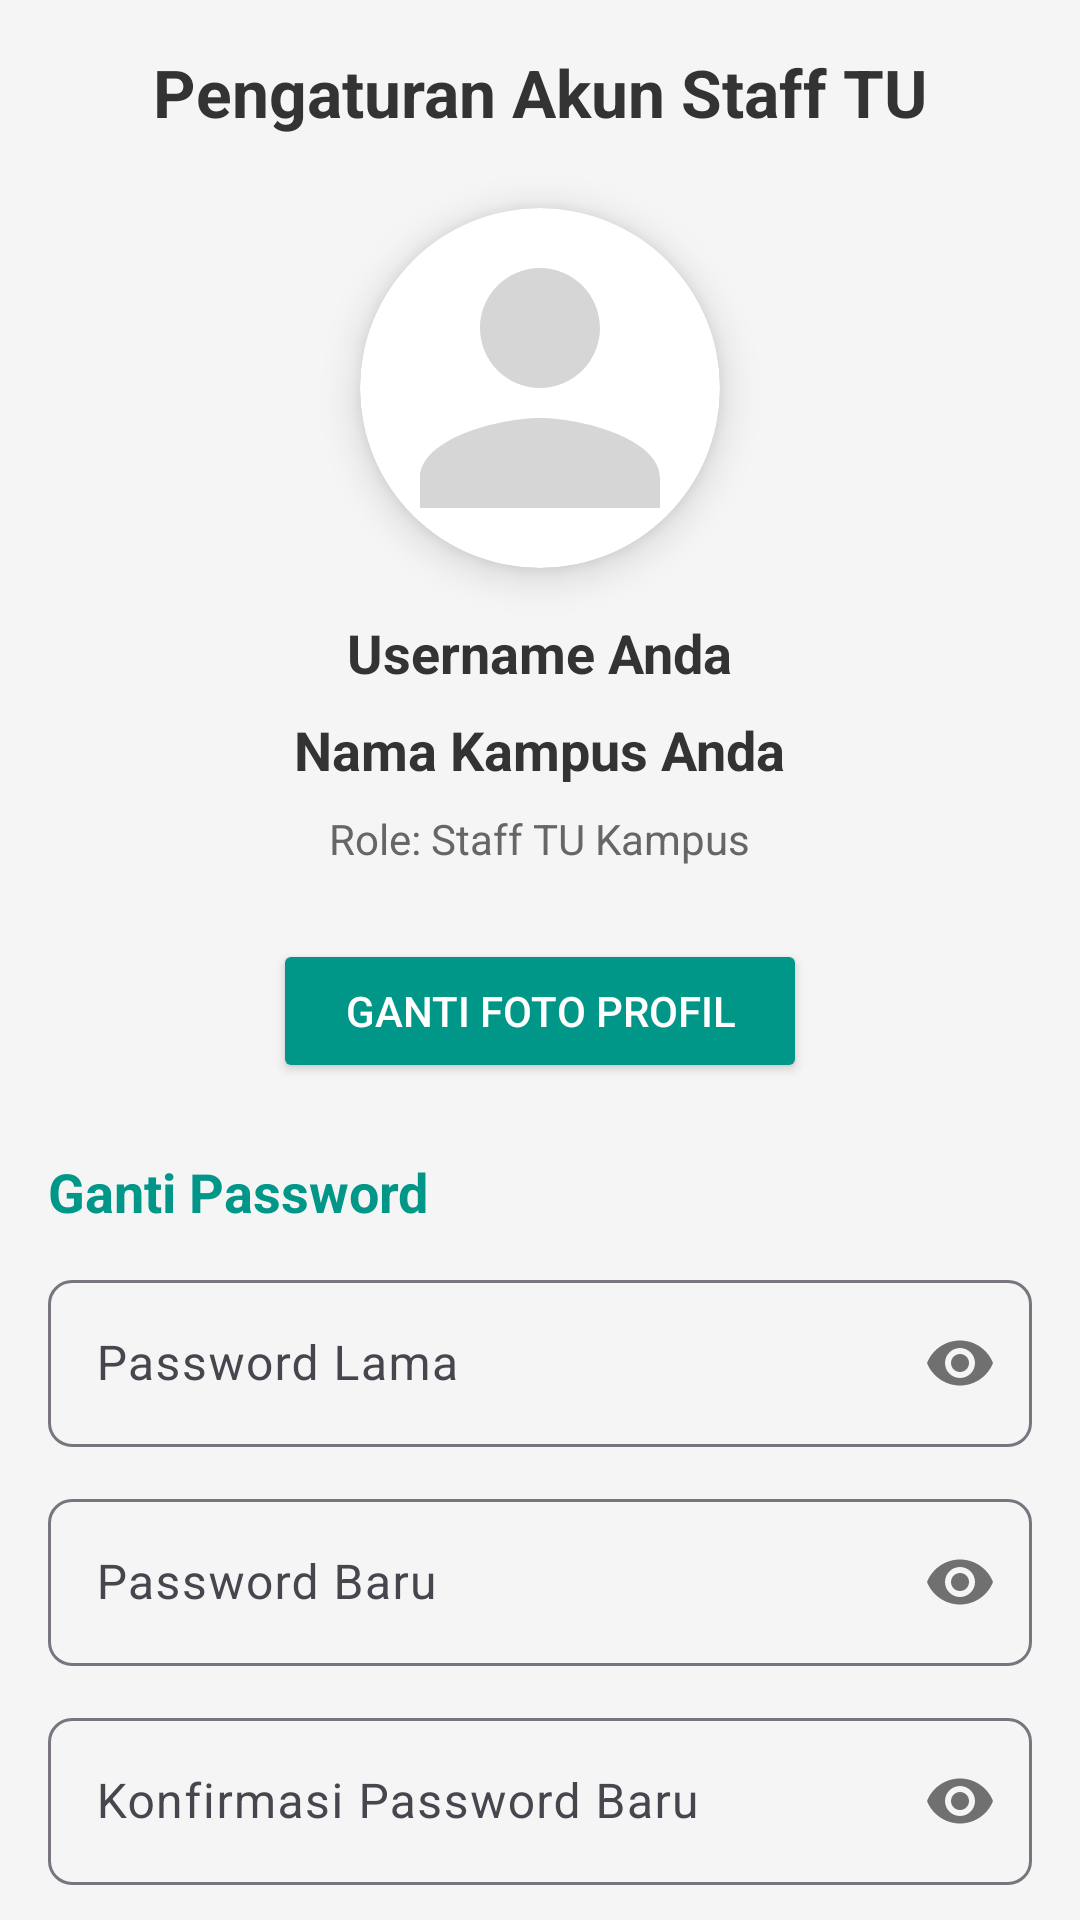

Named icons in this screenshot (1080×1920) and their bounding boxes, bbox(x1, y1, x2, y2):
person: bbox(360, 208, 720, 568)
